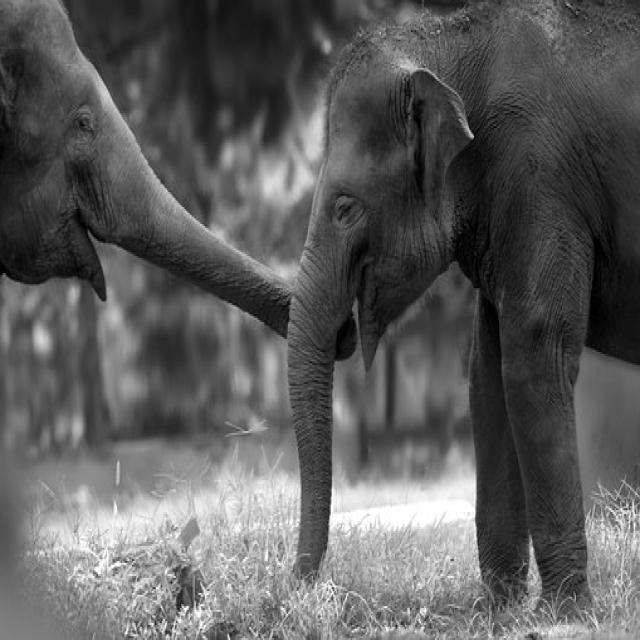Elephant: (270, 2, 640, 620), (0, 0, 317, 350)
